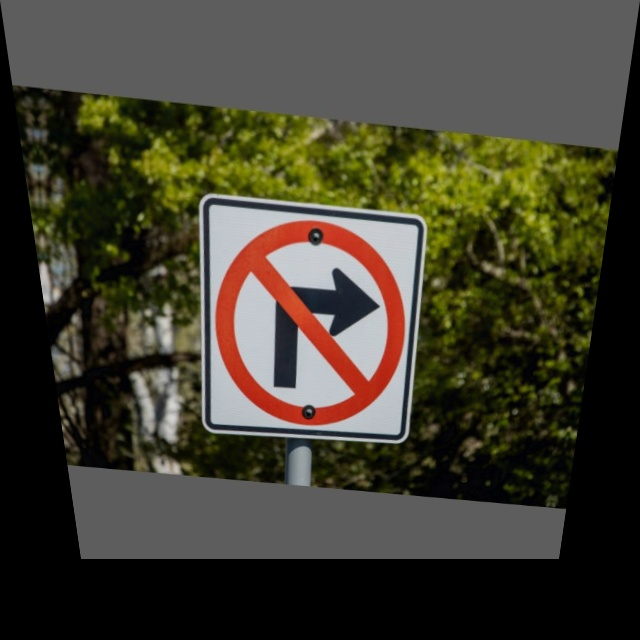Right_Turn_Prohibited: (194, 210, 428, 433)
